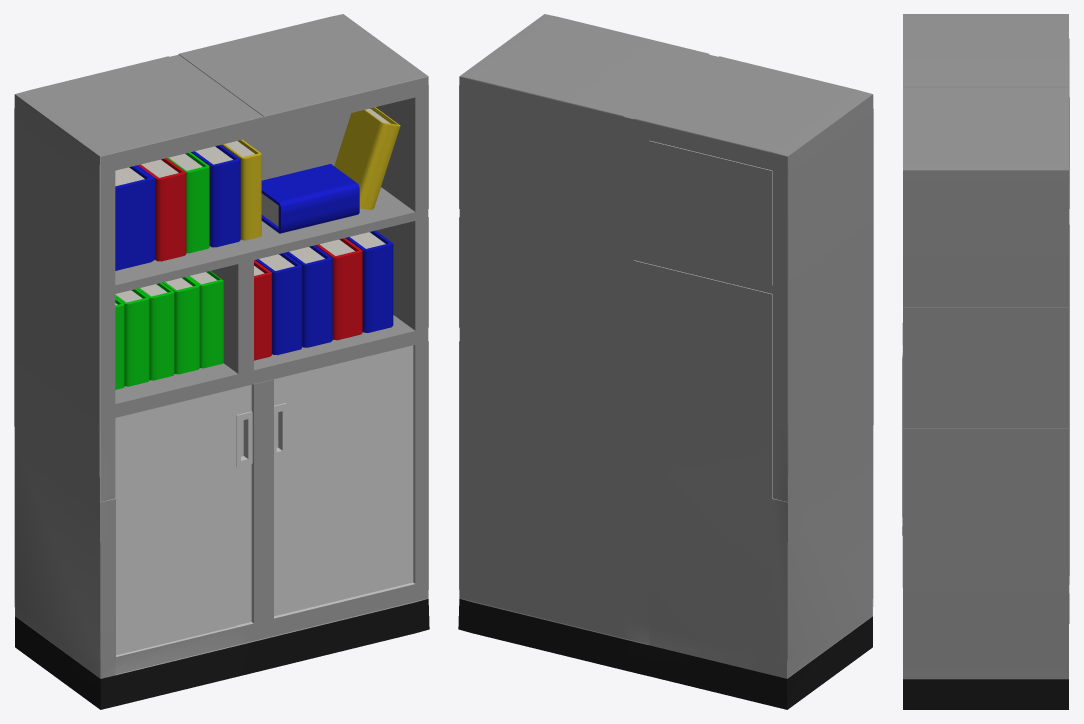
The model's file is tana.fbx.
3 views of the same model, side by side, from view 1: azimuth 30°, elevation 25°; view 2: azimuth 150°, elevation 25°; view 3: azimuth 270°, elevation 25° (orthographic). The views are drawn at different scales.
Visible parts, largest first — view 1: obj1; view 2: obj1; view 3: obj1.
Boxes of the visible parts, x1,y1,x2,y2 form: obj1: (14, 14, 429, 709); obj1: (458, 14, 873, 709); obj1: (902, 14, 1069, 709).
Size of the model in its own units: 201 by 323 by 91.09.
